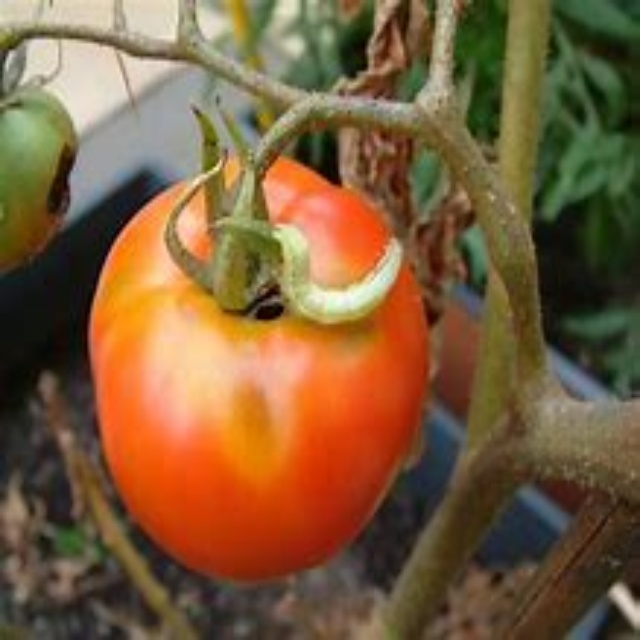tomato: (95, 168, 417, 569)
